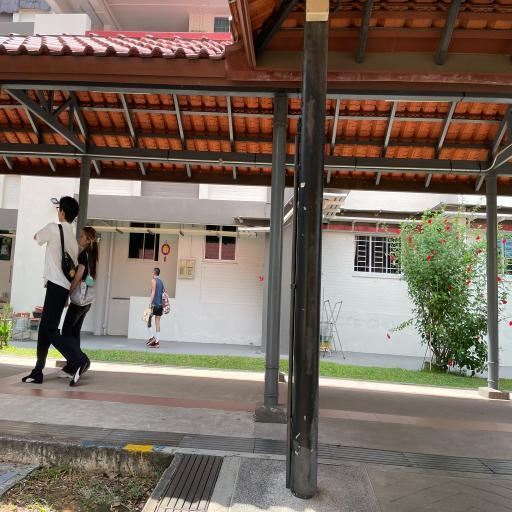person_left: (34, 194, 78, 384), (67, 226, 99, 376), (142, 264, 172, 344)
